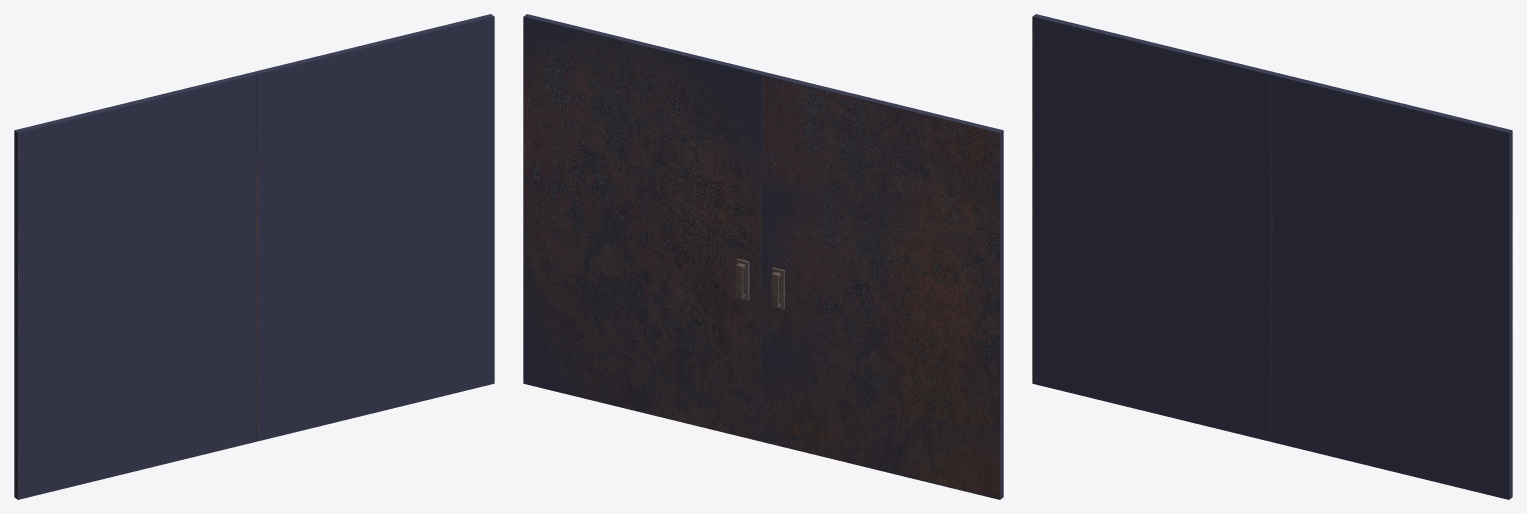
Rendered from puerta 1.fbx.
The picture shows the model from 3 angles, left to right: view 1: azimuth 30°, elevation 25°; view 2: azimuth 150°, elevation 25°; view 3: azimuth 330°, elevation 25°; orthographic projection.
Parts seen in each view (by area): view 1: Cube.001, Cube.004; view 2: Cube.001, Cube.004; view 3: Cube.004, Cube.001.
Boxes of the visible parts, x1,y1,x2,y2 form: Cube.001: [14, 72, 255, 499]; Cube.004: [253, 14, 494, 441]; Cube.001: [762, 72, 1003, 499]; Cube.004: [523, 14, 764, 441]; Cube.004: [1271, 72, 1512, 499]; Cube.001: [1032, 14, 1273, 441].
Bounding box in the file's own units: 979 × 721 × 28.39.
Materials: 3 (3 with a texture image).
